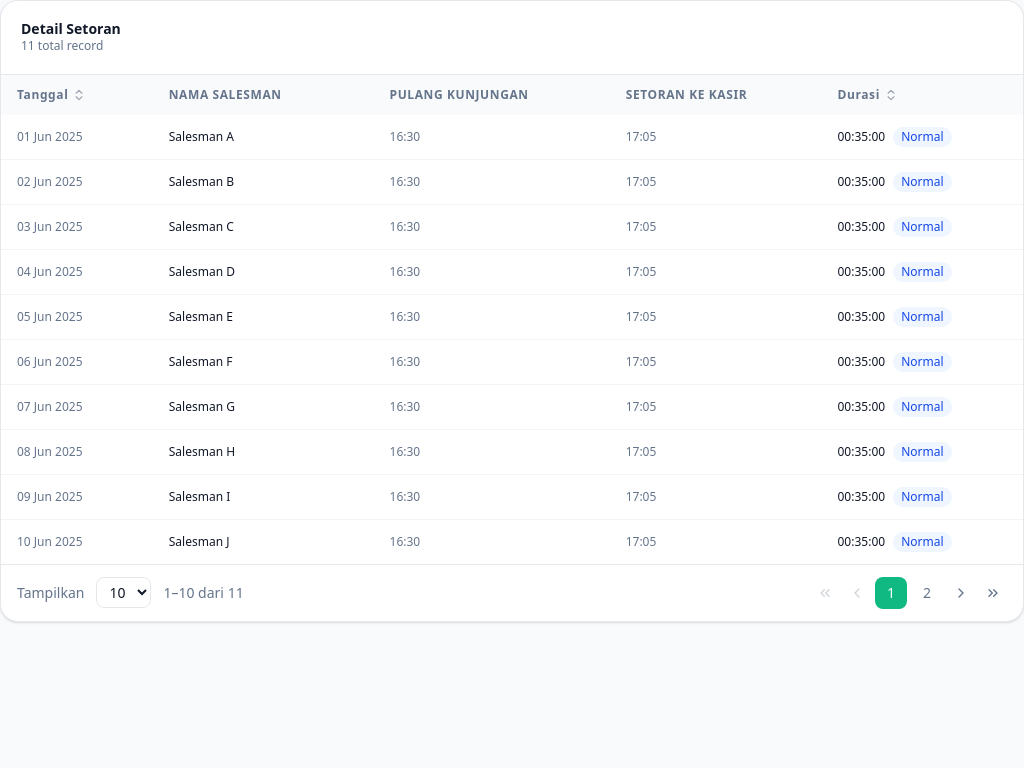
Test: Pagination › navigates to the previous page
The image size is (1024, 768).
Go to page 2
Click the button named "Halaman berikutnya". click: coordinates (961, 593)
box: top-left (947, 579), bottom-right (975, 607)
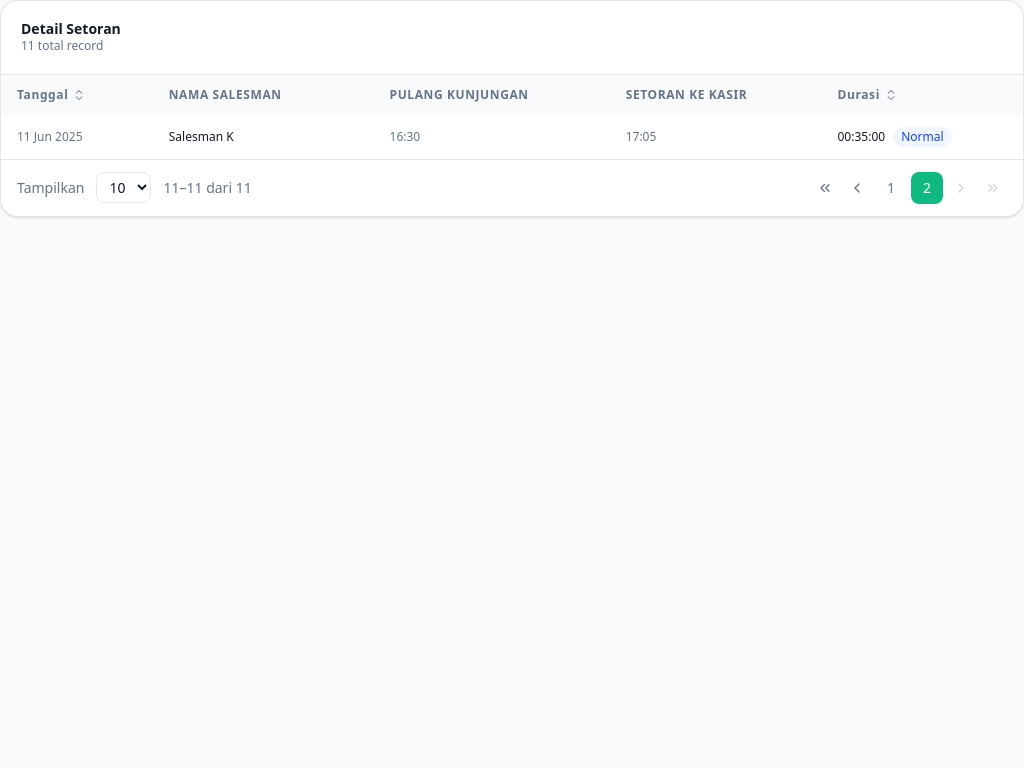
Check: the text "Salesman K" is shown, box top-left (153, 115), bottom-right (374, 159)
Go back to page 1
Click the button named "Halaman sebelumnya". click: coordinates (857, 188)
box: top-left (843, 174), bottom-right (871, 202)
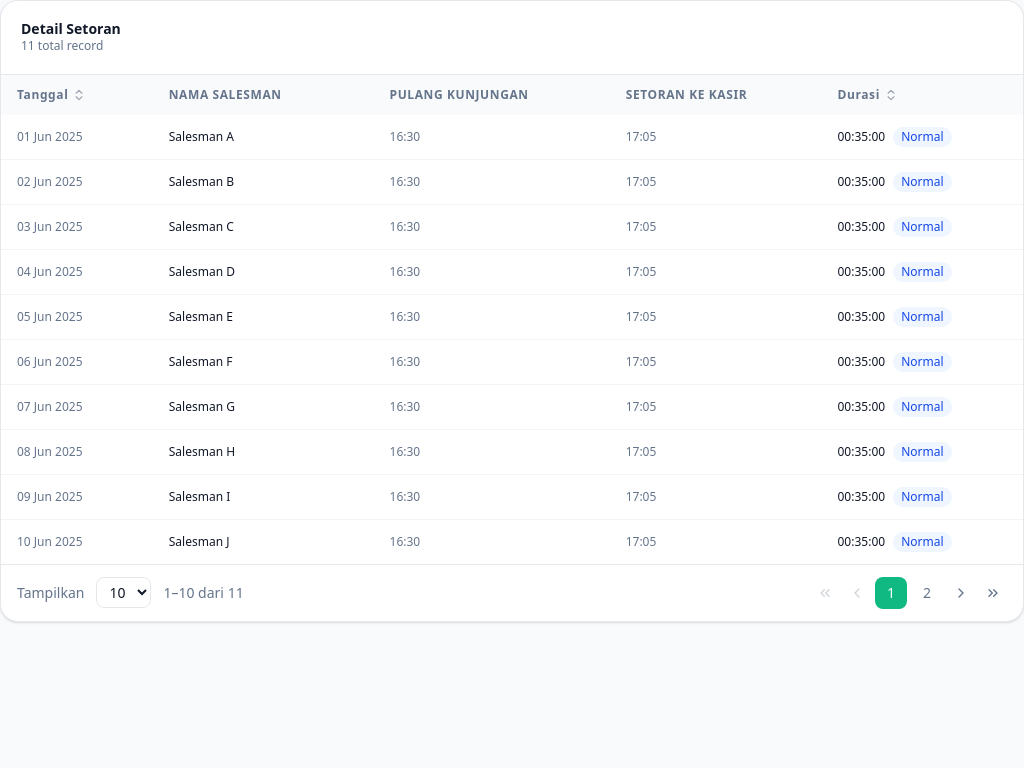
Check: the text "Salesman A" is shown, box top-left (153, 115), bottom-right (374, 159)
Check: the text "Salesman K" is gone
